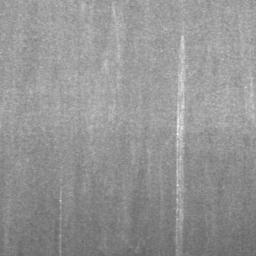Bright scratch: (175, 35, 185, 256), (59, 186, 62, 256)
